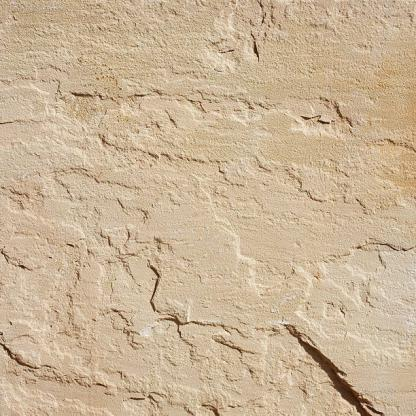Sedimentary_Sandstone: (6, 3, 416, 415)
